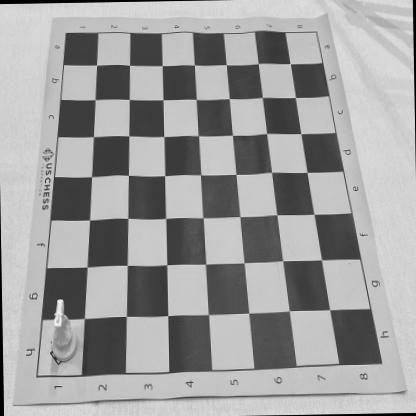knight: (51, 298, 78, 362)
